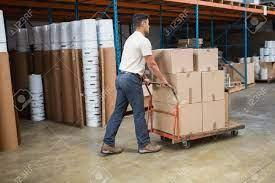Boxes: (150, 102, 202, 134), (152, 74, 202, 102), (152, 49, 194, 74), (204, 104, 228, 131), (203, 72, 225, 101), (196, 50, 219, 71)
